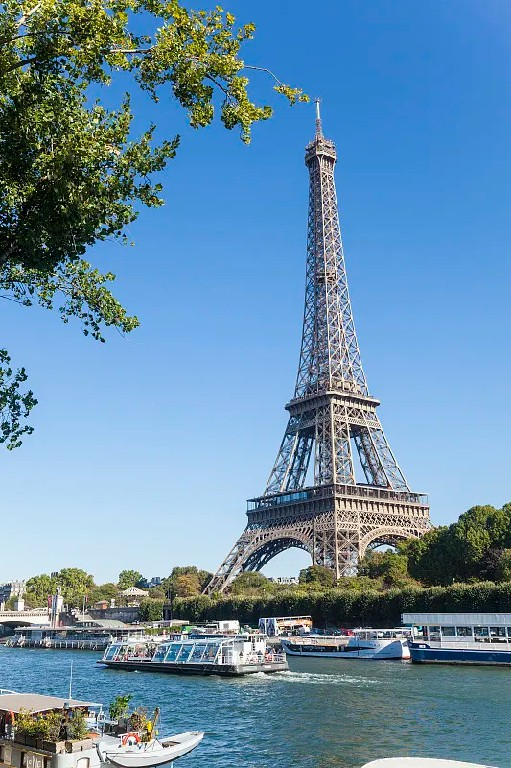Eiffel: (200, 102, 437, 592)
